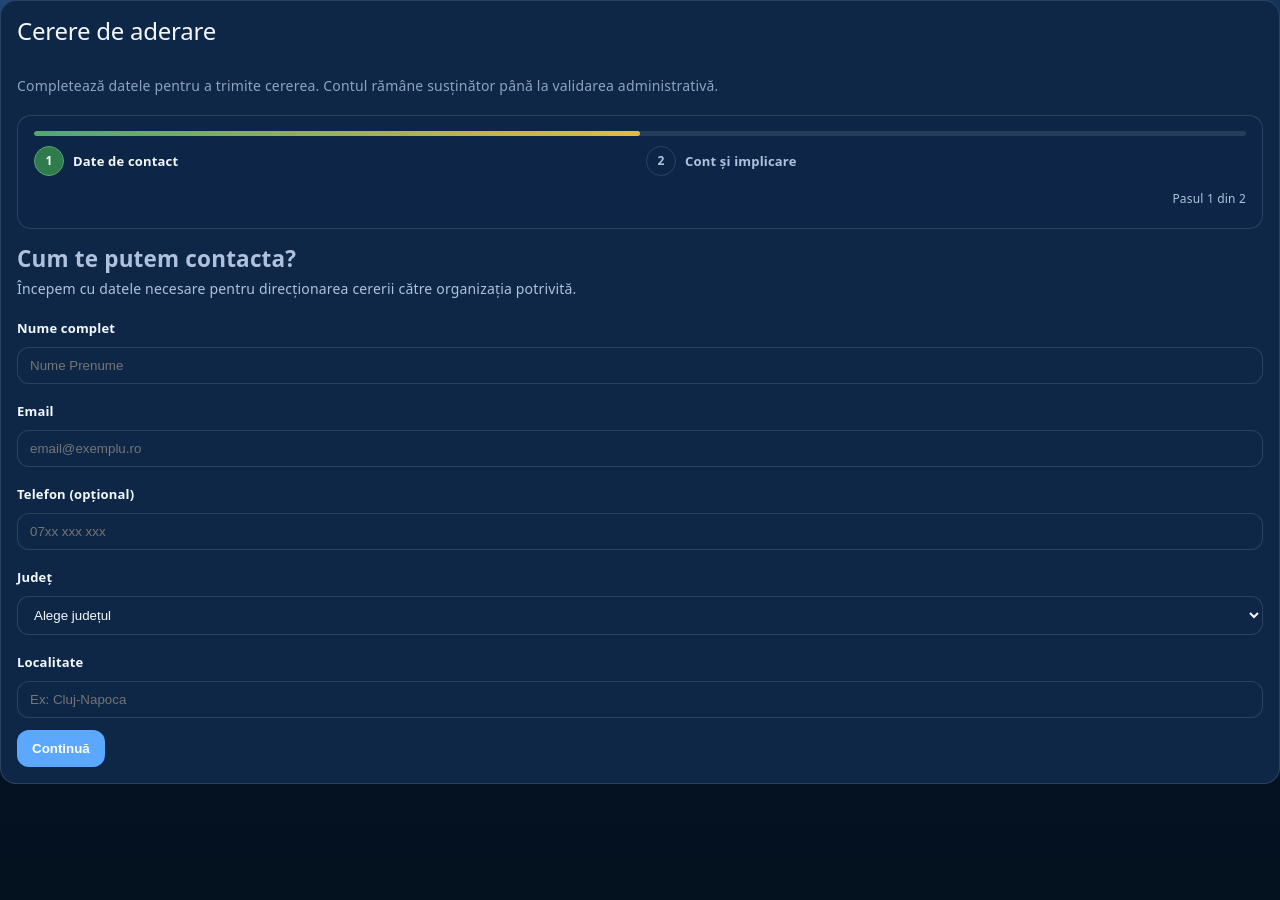
Test: JoinRequestForm › splits the request into two short steps and preserves contact data
The image size is (1280, 900).
Expected: the text "Pasul 1 din 2" is shown, [1172, 190, 1246, 207]
Expected: the heading "Cum te putem contacta?" is shown, [17, 242, 296, 274]
In the field labelled "Nume complet": (640,365) [17, 347, 1263, 384], type "Maria Popescu"
In the field labelled "Email": (640,448) [17, 430, 1263, 467], type "maria@example.test"
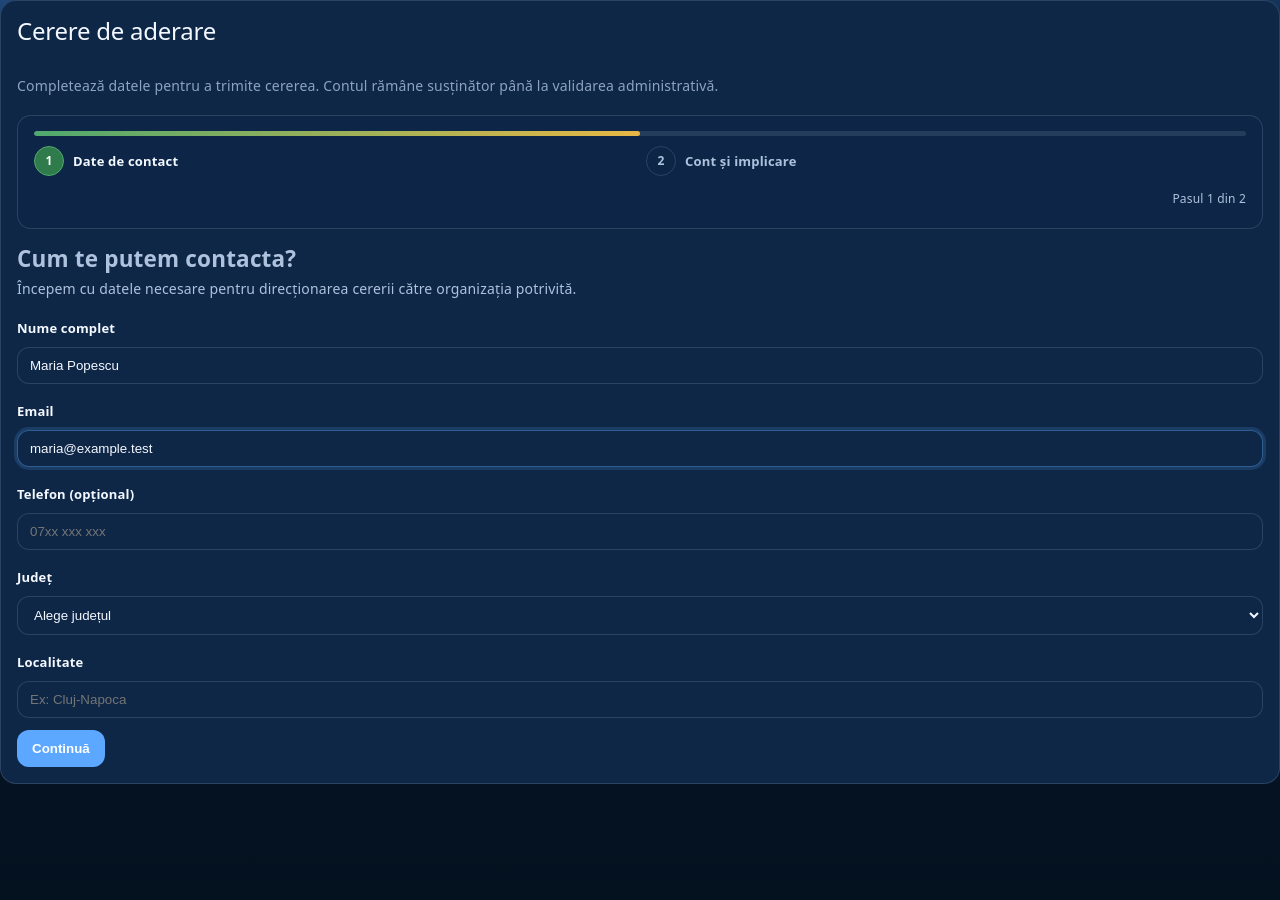
In the field labelled "Telefon (opțional)": (640,531) [17, 513, 1263, 550], type "0712 345 678"
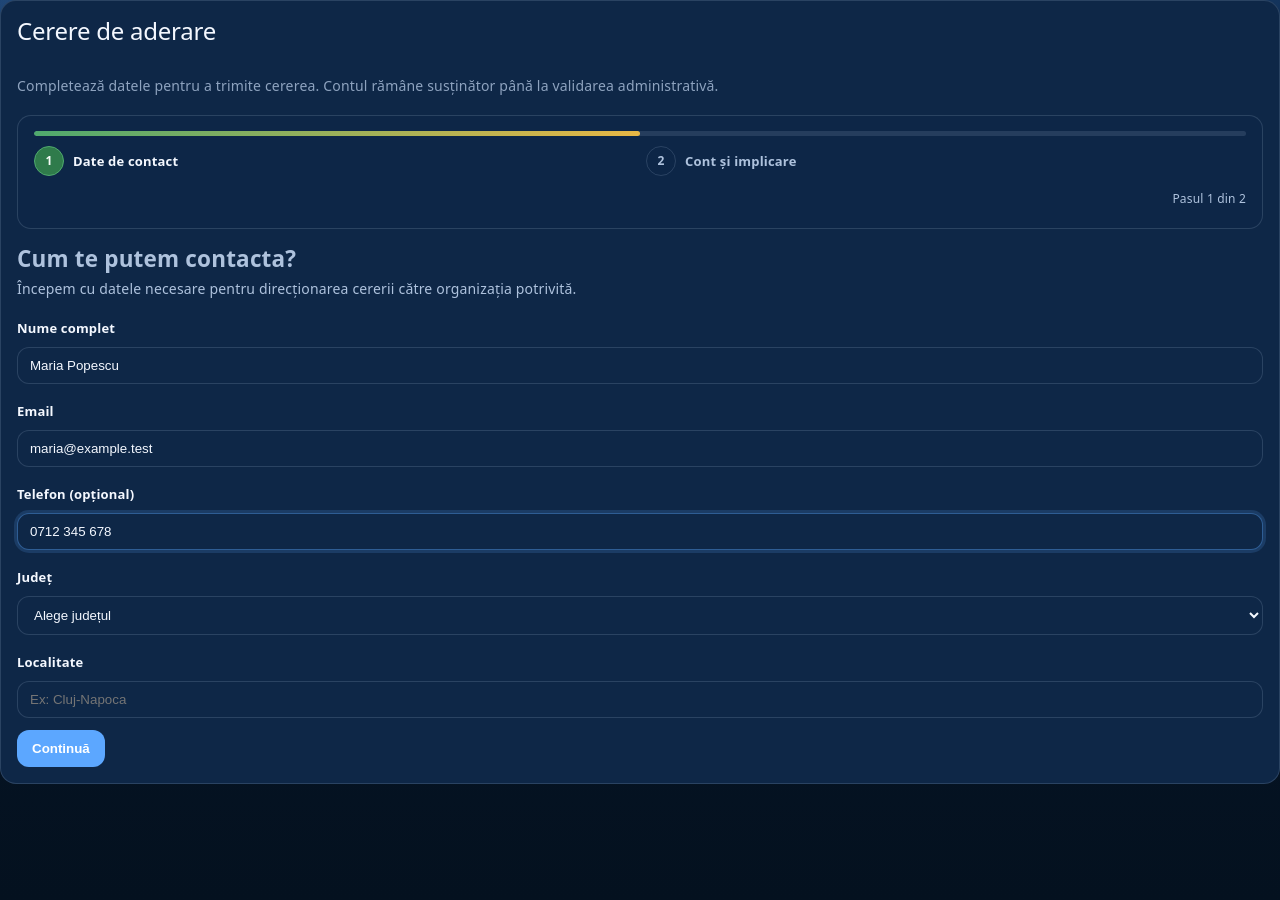
Select "Cluj" in the dropdown labelled "Județ": (640,615) [17, 596, 1263, 635]
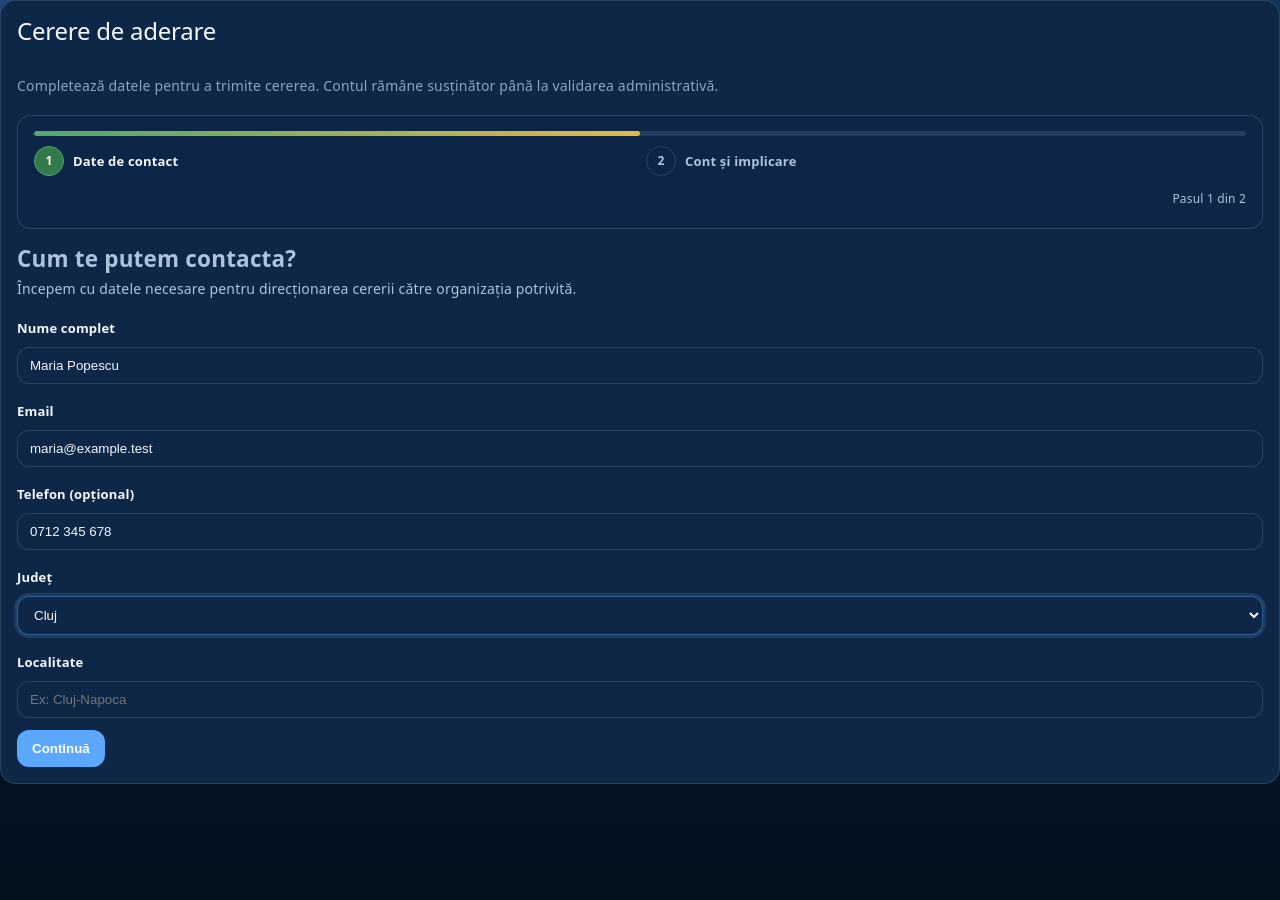
In the field labelled "Localitate": (640,700) [17, 681, 1263, 718], type "Cluj-Napoca"
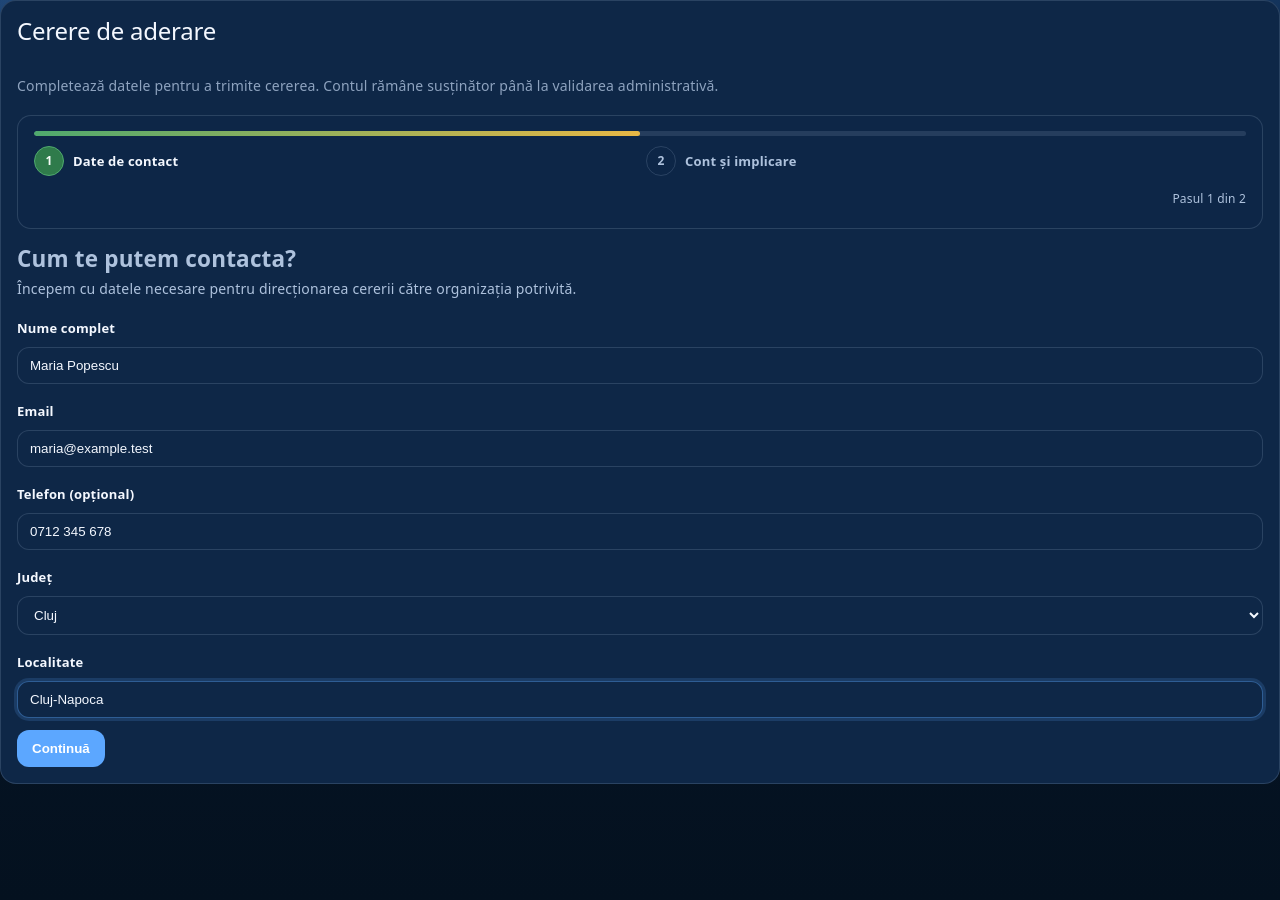
Click the button "Continuă": (61,748) [17, 730, 105, 767]
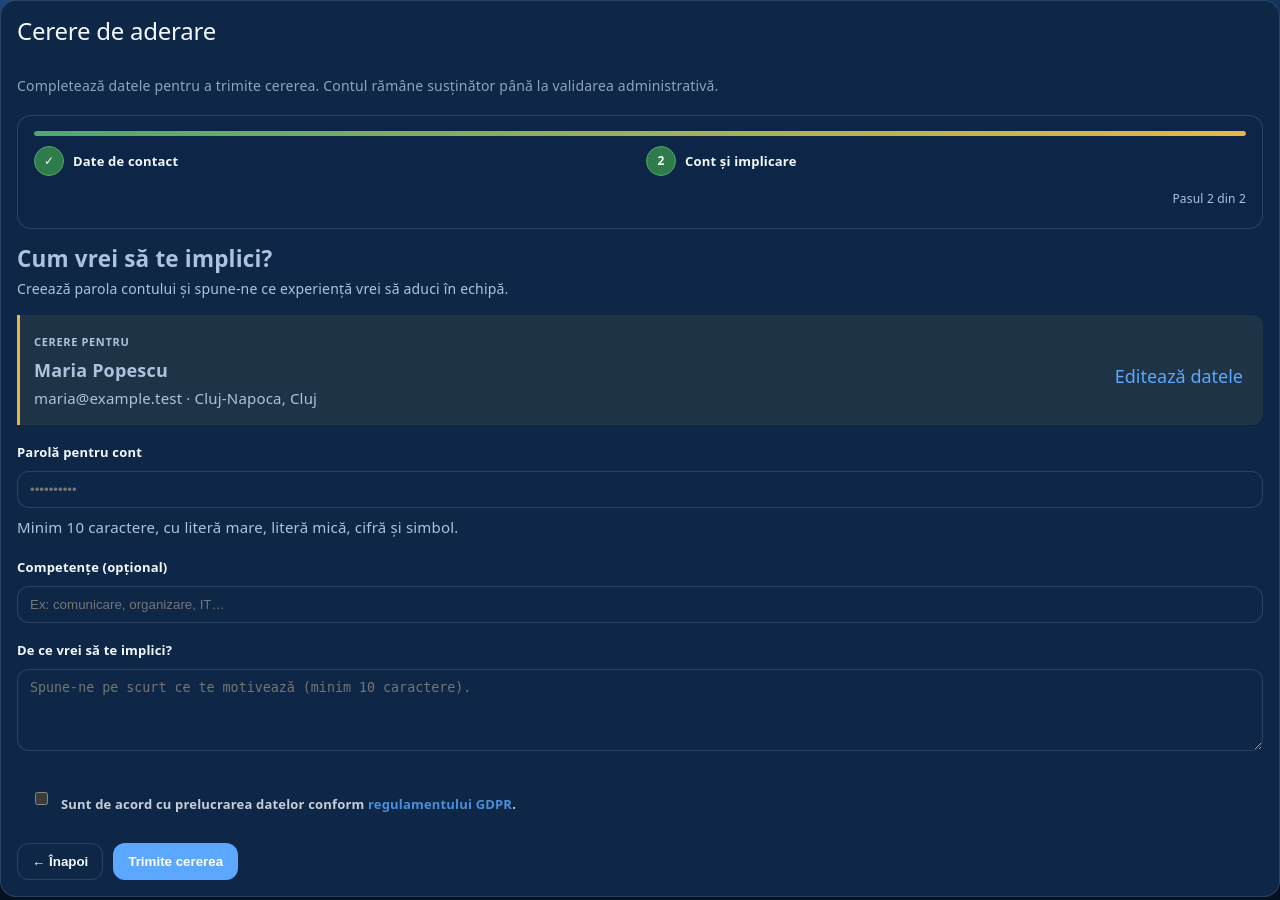
Result: the text "Pasul 2 din 2" is shown at [1172, 190, 1246, 207]
Result: the heading "Cum vrei să te implici?" is shown at [17, 242, 272, 274]
Result: the text "Maria Popescu" is shown at [34, 358, 168, 382]
Click the button "Editează datele": (1179,376) [1109, 357, 1249, 395]
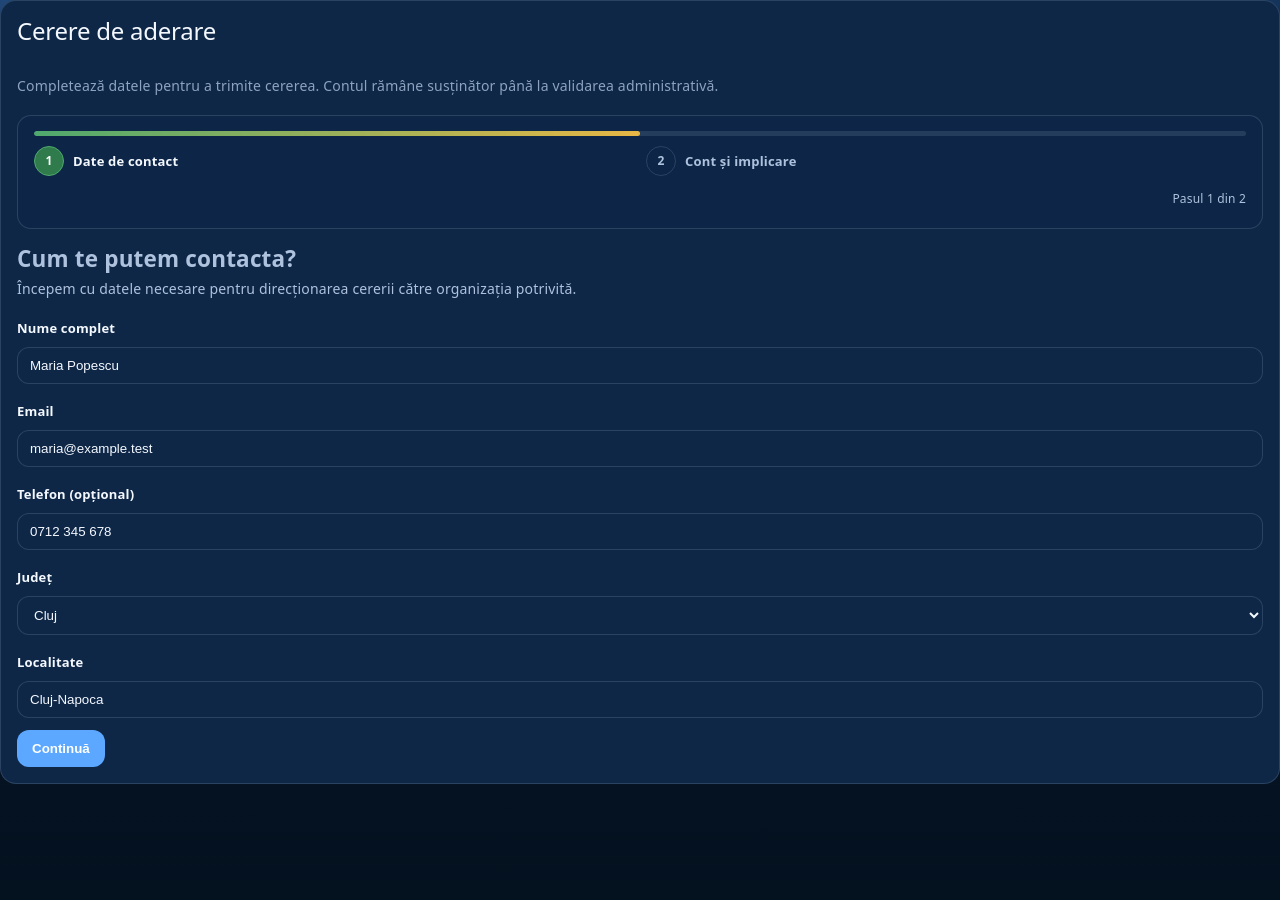
Result: the text "Pasul 1 din 2" is shown at [1172, 190, 1246, 207]
Result: the field labelled "Nume complet" holds "Maria Popescu" at [17, 347, 1263, 384]
Result: the dropdown labelled "Județ" shows "Cluj" at [17, 596, 1263, 635]
